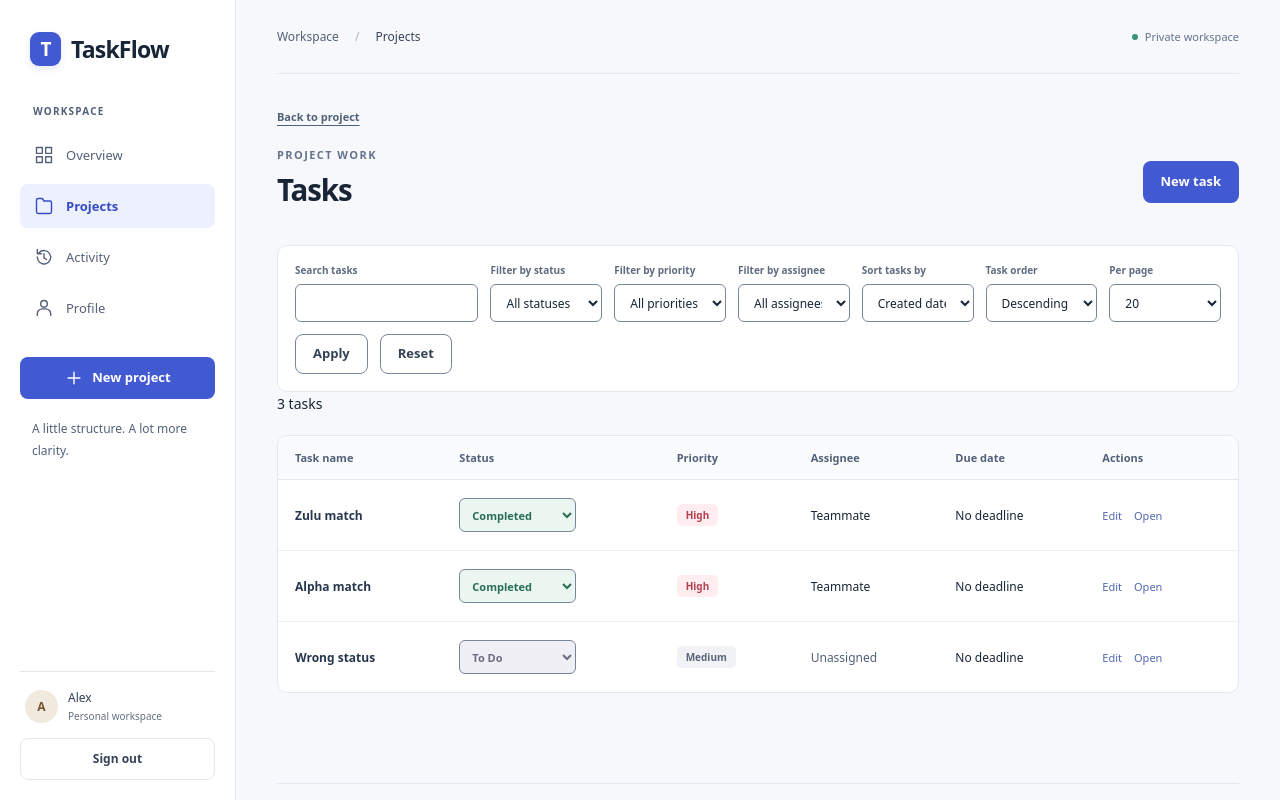
Scenario: Task pages › applies search, status, priority and opaque assignee together and renders returned sort order
This screenshot has width=1280, height=800.
Expected: the text "3 tasks" is shown, [277,394,322,413]
Type " match " into the search field labelled "Search tasks" at (387, 304), box [295,284,478,322]
Select "Completed" in the dropdown labelled "Filter by status" at (546, 304), box [490,284,602,322]
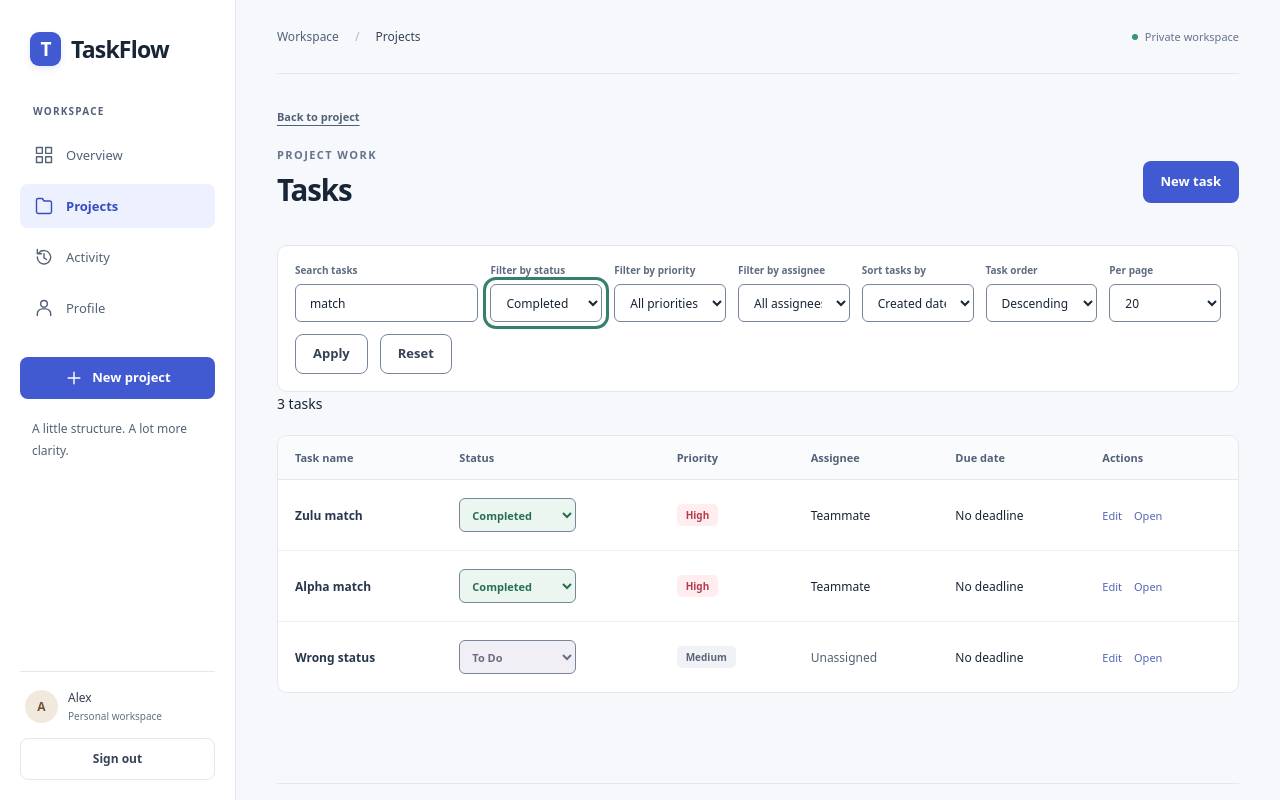
Select "High" in the dropdown labelled "Filter by priority" at (670, 304), box [614,284,726,322]
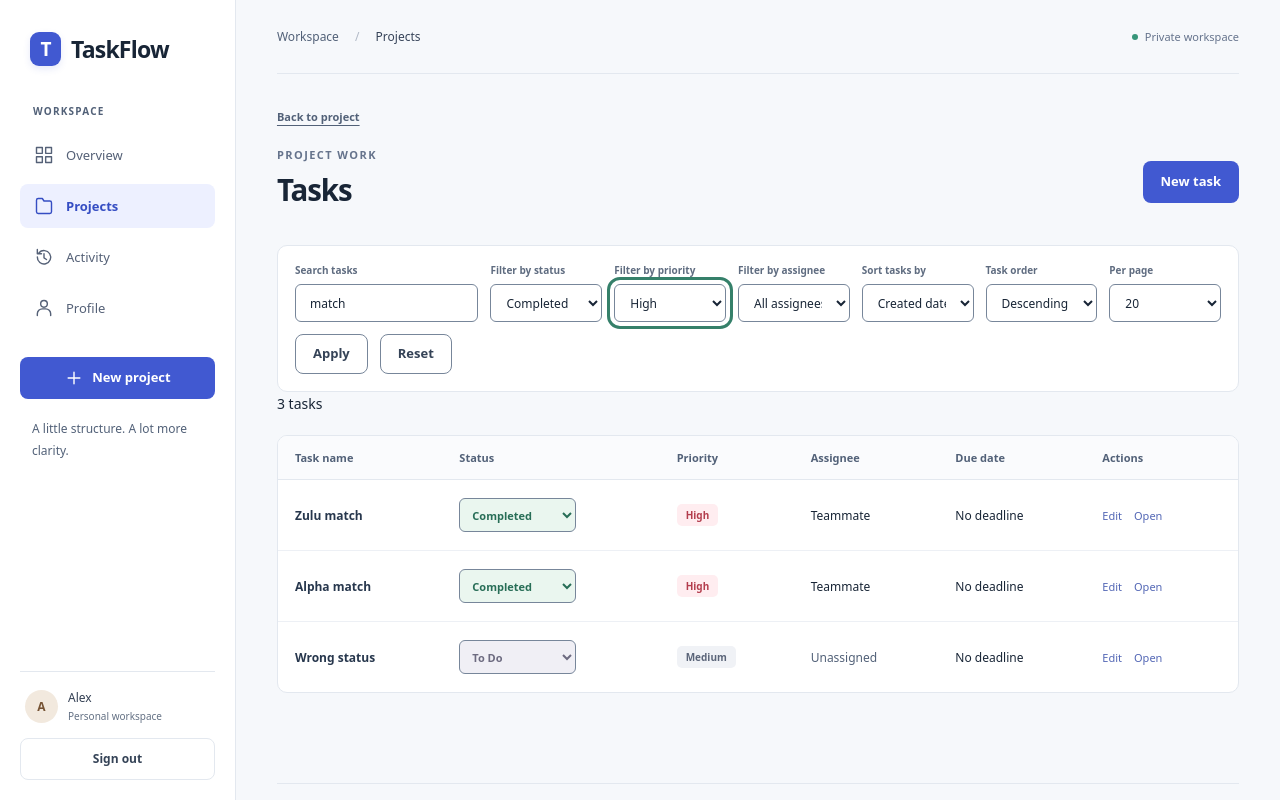
Select "Teammate (Member)" in the dropdown labelled "Filter by assignee" at (794, 304), box [738,284,850,322]
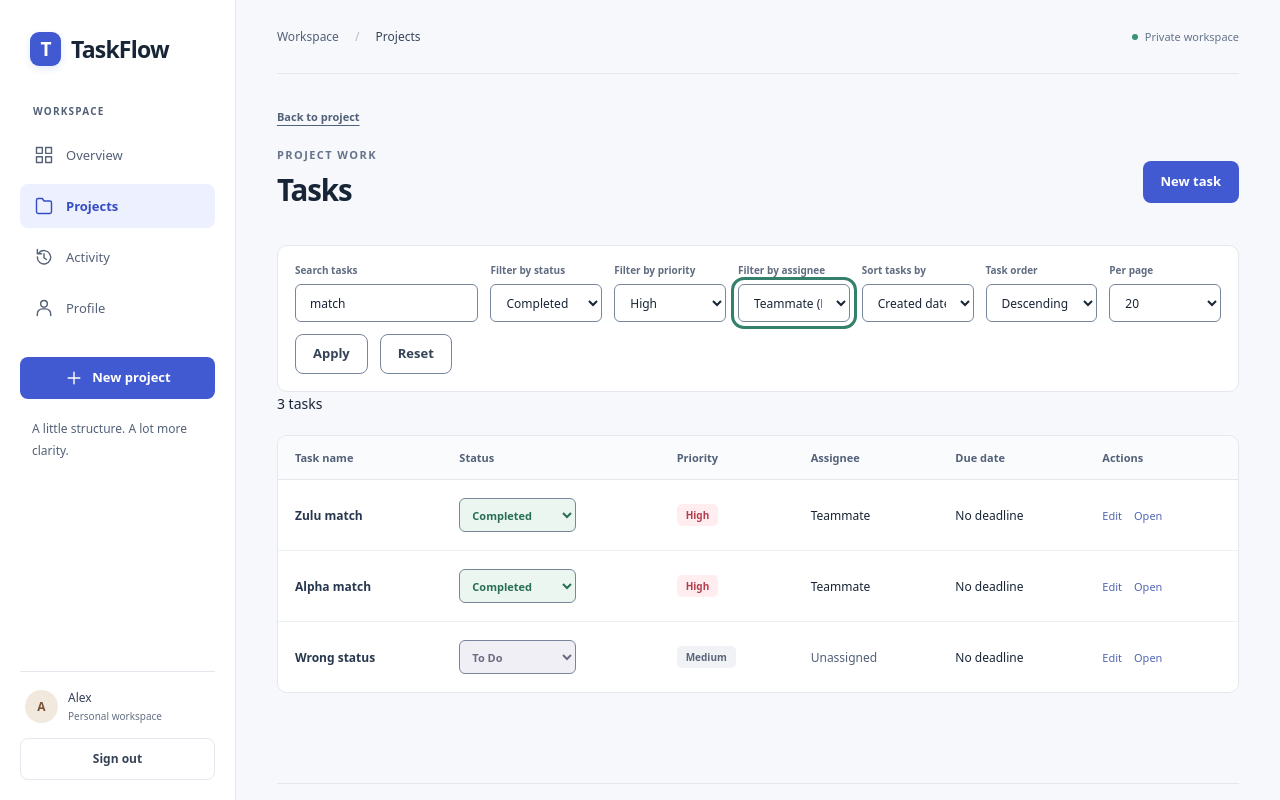
Select "Title" in the dropdown labelled "Sort tasks by" at (918, 304), box [862,284,974,322]
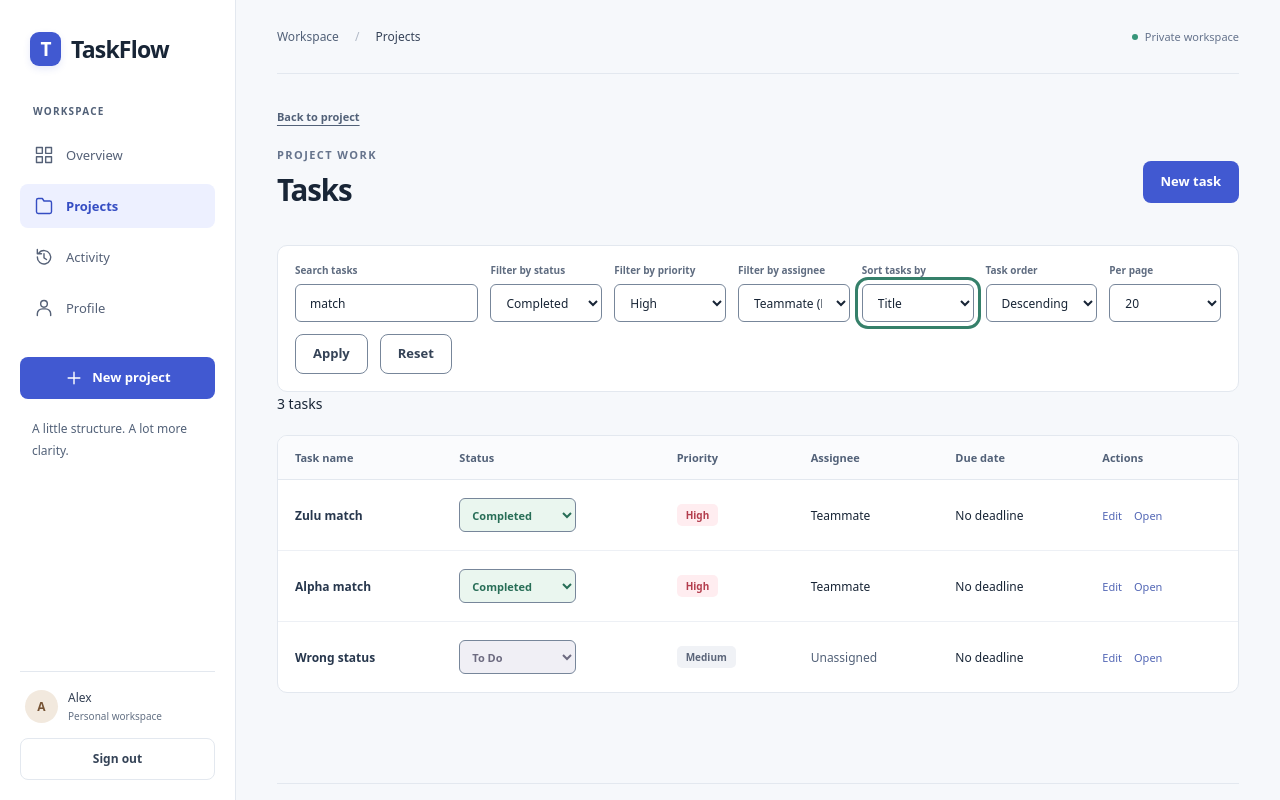
Select "Ascending" in the dropdown labelled "Task order" at (1041, 304), box [986,284,1097,322]
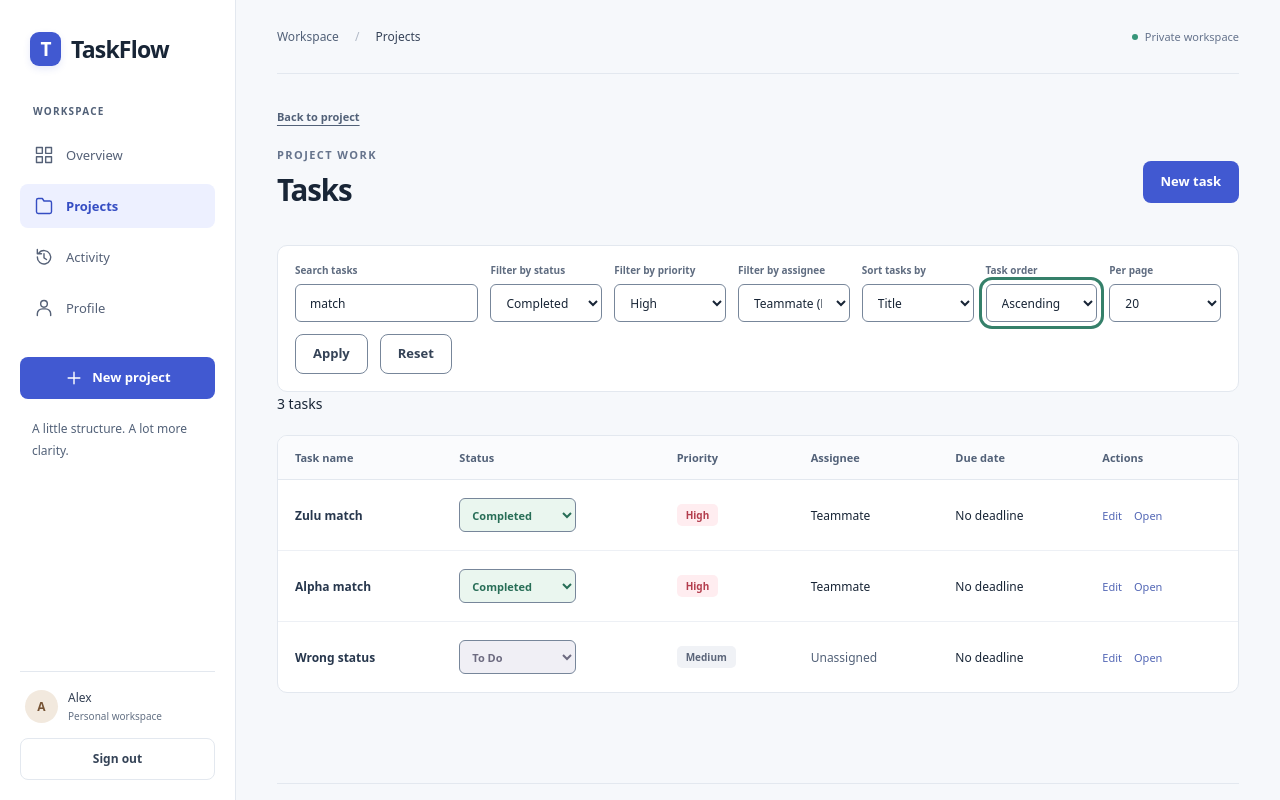
Click the button "Apply" at (331, 354), box [295,334,368,374]
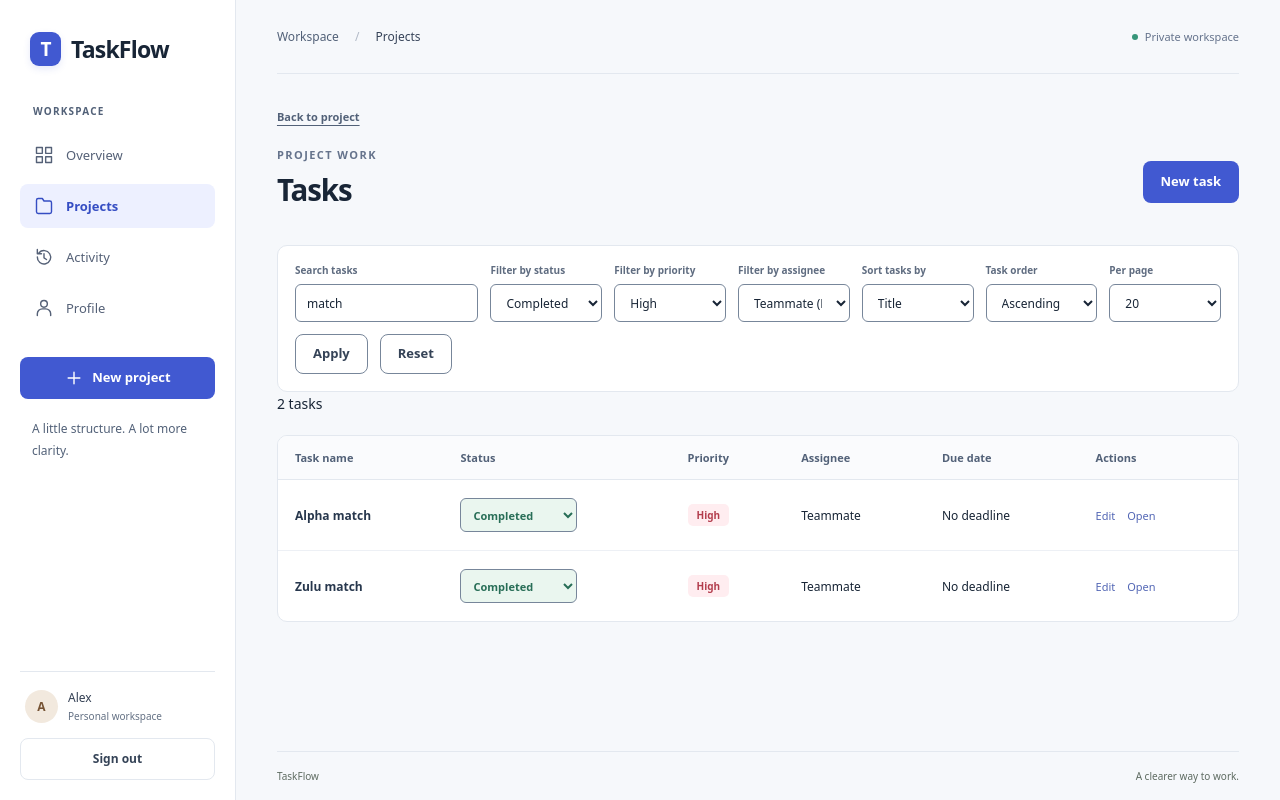
Result: the text "2 tasks" is shown at [277,394,322,413]
Result: the link "Wrong status" is gone
